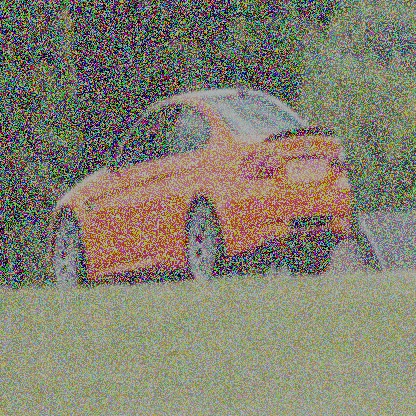Vehicle: (49, 90, 353, 292)
